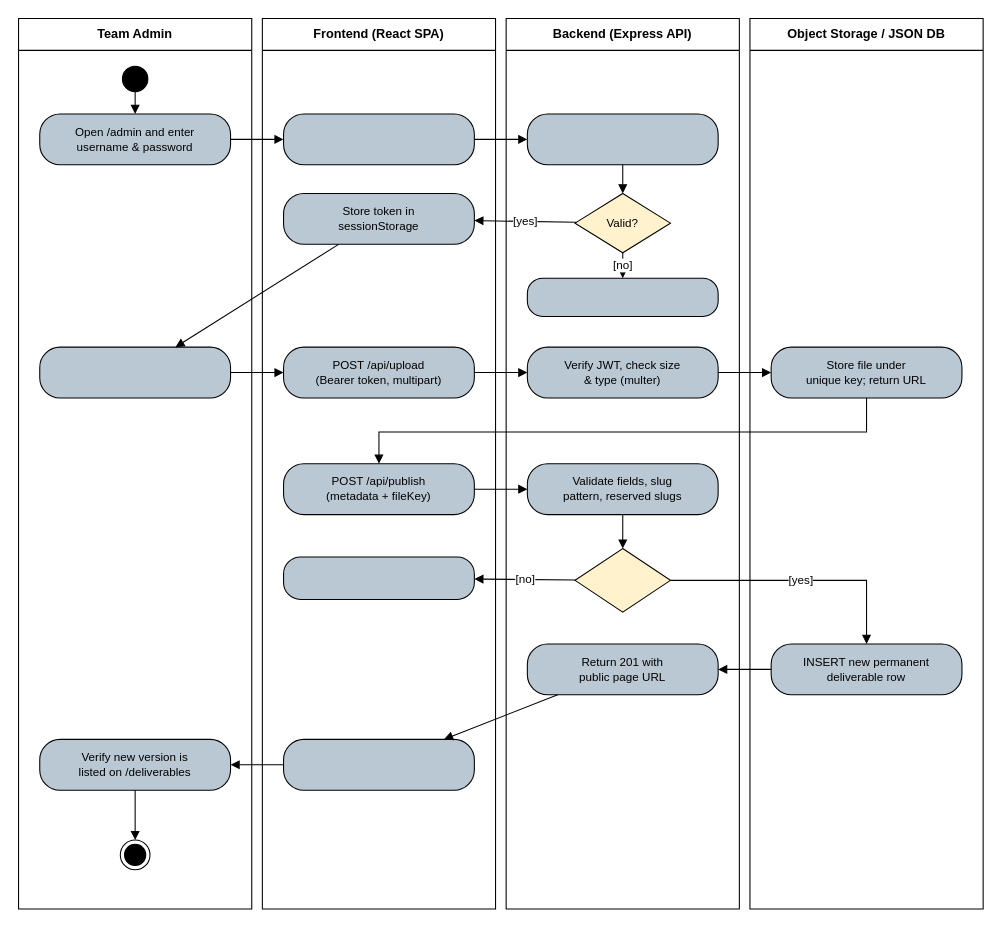
Some shapes in this 1002 by 927 pixel diagram are drawn without their labels. Here are the shapes that lost their labels. From the top down, the centre of each, then its label:
point 378,139: POST /api/auth/login
point 622,139: Check lockout, bcrypt compare, sign JWT (8 h)
point 622,296: Return 401 / 429
point 135,372: Choose file & fill slug, title, version, authors
point 378,577: Return 409 Conflict
point 622,579: Slug unused?
point 378,764: Show success & link to /<slug>
